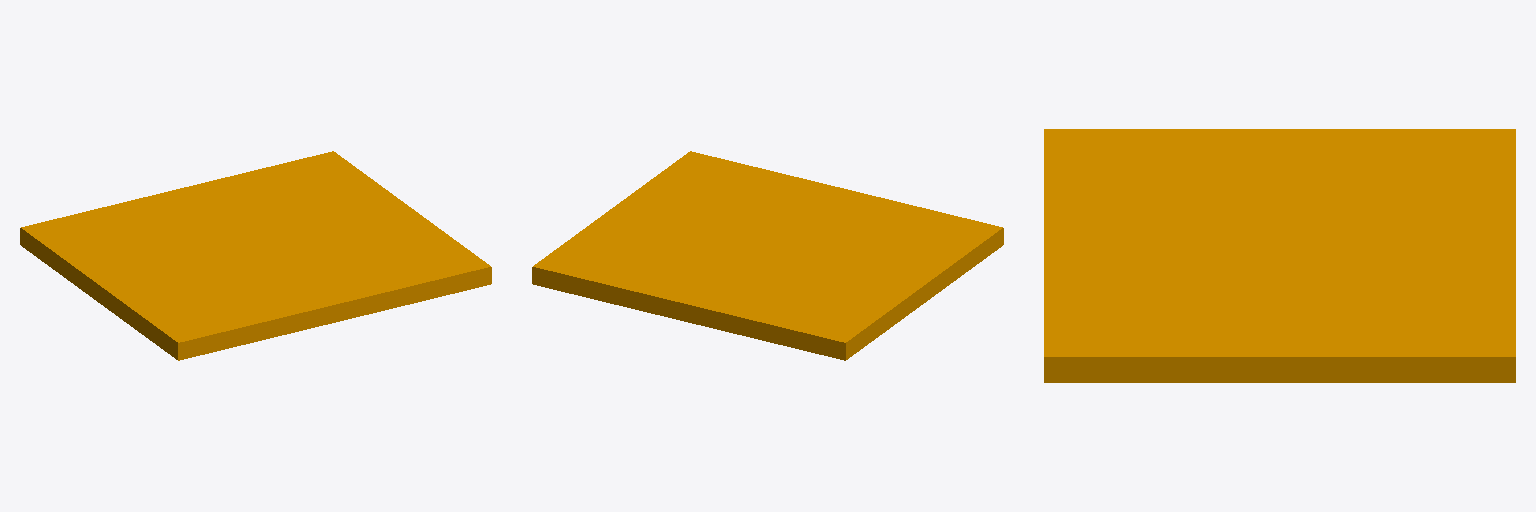
URDF robot description (loose_lid_1):
<?xml version='1.0' encoding='utf-8'?>
<robot name="loose_lid_1">
  <link name="body">
    <inertial>
      <origin xyz="0.0 0.0 0.0" />
      <mass value="0.1" />
      <inertia ixx="0.00048187500000000004" iyy="0.0006320833333333336" izz="0.0011102083333333335" ixy="0.0" ixz="0.0" iyz="0.0" />
    </inertial>
    <collision>
      <geometry>
        <mesh filename="part_00.obj" />
      </geometry>
    </collision>
    <visual>
      <geometry>
        <mesh filename="visual.obj" />
      </geometry>
    </visual>
  </link>
</robot>

--- Render facts (derived) ---
Views: 3 orthographic renders of the robot side by side, from view 1: azimuth 30°, elevation 25°; view 2: azimuth 150°, elevation 25°; view 3: azimuth 270°, elevation 25°.
Model loose_lid_1 with 1 links and 0 joints (none), rooted at body, posed every joint at zero.
Visible links, largest first — view 1: body; view 2: body; view 3: body.
Link boxes in pixels (left/top/right/bottom): body: left=20, top=151, right=491, bottom=360; body: left=532, top=151, right=1003, bottom=360; body: left=1044, top=129, right=1515, bottom=382.
Size in the robot's own frame: 0.275 by 0.24 by 0.015 metres.
1 mesh visuals loaded from 1 distinct referenced files (1 OBJ).
